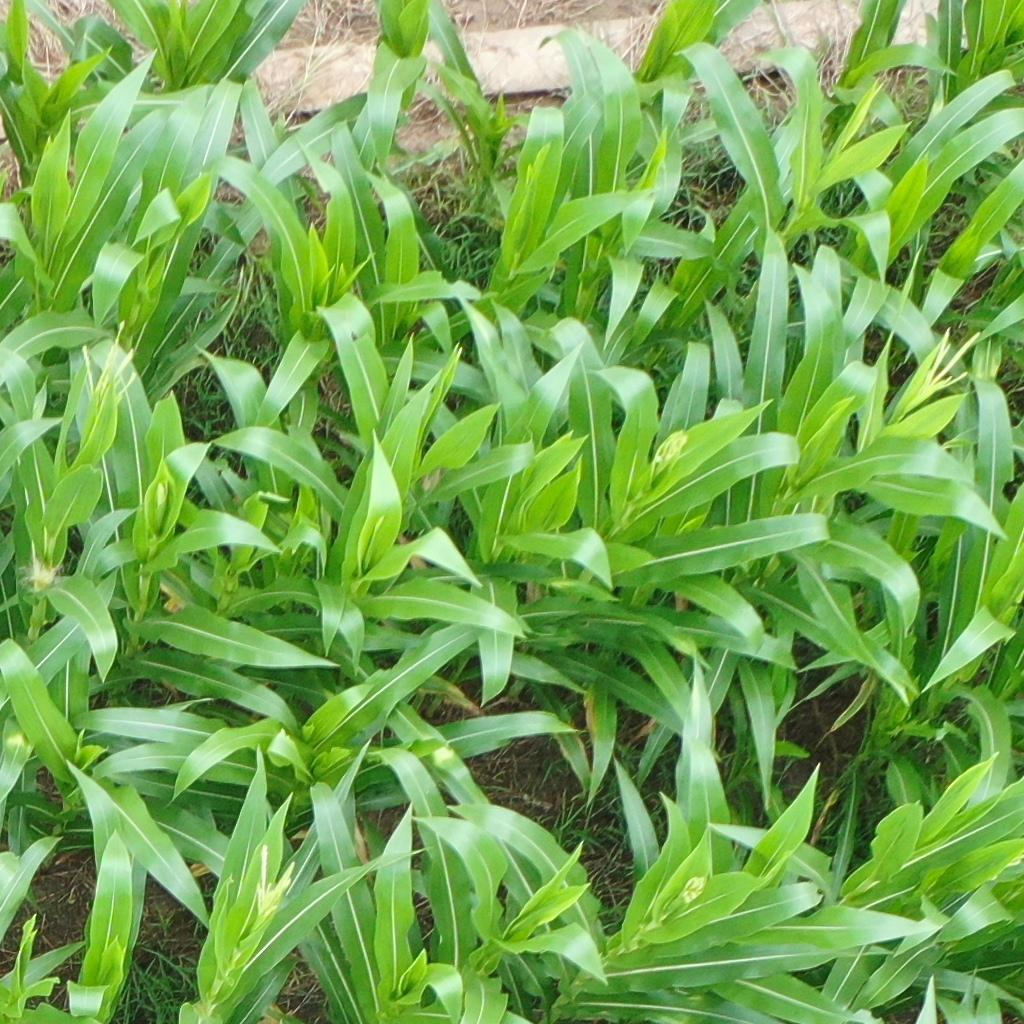Tassel: (79, 317, 139, 404), (916, 323, 982, 402), (254, 843, 296, 917), (650, 429, 691, 468), (681, 874, 704, 907)
